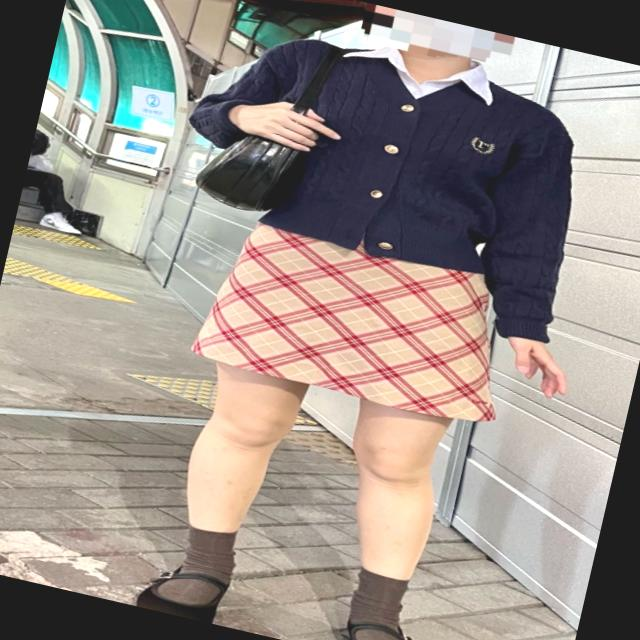cardigan: (161, 4, 610, 347)
skirt: (190, 211, 529, 431)
